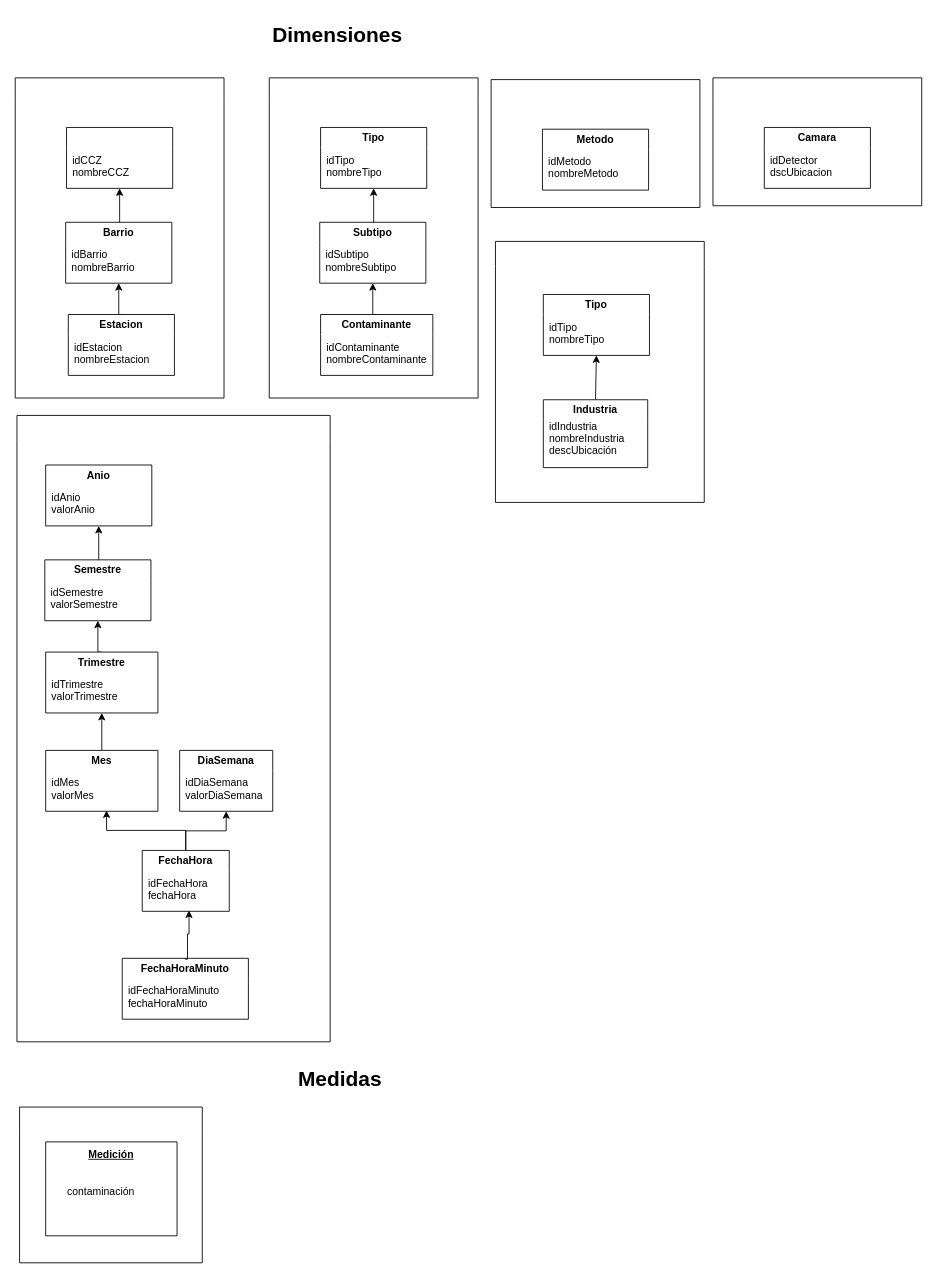
The diagram is 937 pixels wide and 1278 high, and some of its shapes have lost their labels. Here are the shapes that lost their labels. From the top down, the box of each, then its label:
(66, 127, 173, 188): CentroComunal
(490, 79, 700, 207): Metodos
(712, 77, 922, 206): Camaras
(14, 77, 224, 398): UbicacionesGeograficas
(268, 77, 478, 398): Contaminantes
(495, 241, 704, 502): Industrias
(16, 415, 330, 1042): Tiempo
(19, 1106, 202, 1263): M_Mediciones
